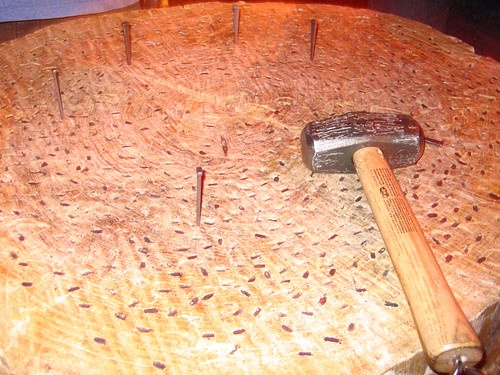hammer: (299, 110, 494, 372)
